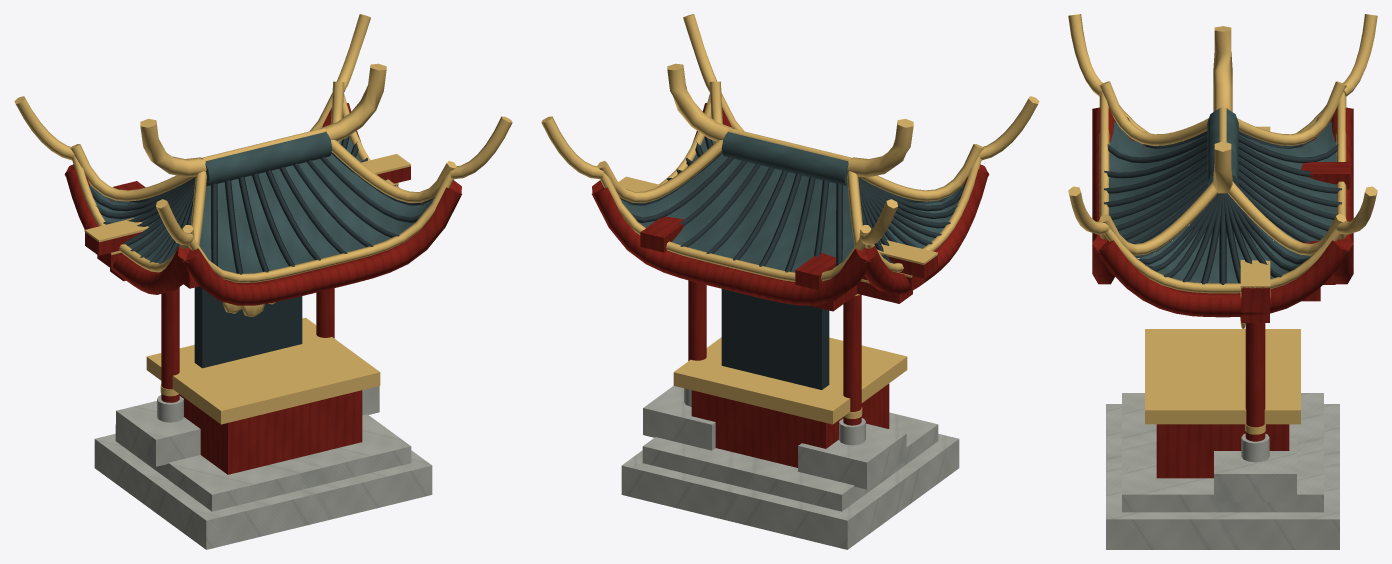
File: shrine.glb
3 renders of one model, left to right at view 1: azimuth 30°, elevation 25°; view 2: azimuth 150°, elevation 25°; view 3: azimuth 270°, elevation 25°, orthographic. The views are drawn at different scales.
Parts seen in each view (by area): view 1: shrine_Temple_Antique_Gold, shrine_Temple_Worn_Pale_Stone, shrine_Temple_Red_Timber, shrine_Temple_Charcoal_Glazed_Tiles, shrine_Temple_Dark_Ridge_and_Iron; view 2: shrine_Temple_Worn_Pale_Stone, shrine_Temple_Antique_Gold, shrine_Temple_Red_Timber, shrine_Temple_Dark_Ridge_and_Iron, shrine_Temple_Charcoal_Glazed_Tiles; view 3: shrine_Temple_Antique_Gold, shrine_Temple_Worn_Pale_Stone, shrine_Temple_Red_Timber, shrine_Temple_Dark_Ridge_and_Iron, shrine_Temple_Charcoal_Glazed_Tiles.
Part boxes in pixels (bbox=[...]): shrine_Temple_Antique_Gold: bbox=[14, 14, 512, 424]; shrine_Temple_Worn_Pale_Stone: bbox=[94, 386, 432, 549]; shrine_Temple_Red_Timber: bbox=[64, 103, 461, 474]; shrine_Temple_Charcoal_Glazed_Tiles: bbox=[89, 132, 433, 273]; shrine_Temple_Dark_Ridge_and_Iron: bbox=[88, 136, 434, 368]; shrine_Temple_Worn_Pale_Stone: bbox=[621, 385, 959, 549]; shrine_Temple_Antique_Gold: bbox=[541, 14, 1039, 424]; shrine_Temple_Red_Timber: bbox=[592, 103, 989, 467]; shrine_Temple_Dark_Ridge_and_Iron: bbox=[619, 136, 965, 389]; shrine_Temple_Charcoal_Glazed_Tiles: bbox=[620, 132, 964, 272]; shrine_Temple_Antique_Gold: bbox=[1068, 14, 1377, 434]; shrine_Temple_Worn_Pale_Stone: bbox=[1106, 393, 1339, 549]; shrine_Temple_Red_Timber: bbox=[1092, 107, 1353, 478]; shrine_Temple_Dark_Ridge_and_Iron: bbox=[1104, 117, 1341, 284]; shrine_Temple_Charcoal_Glazed_Tiles: bbox=[1108, 109, 1337, 283].
Size of the model in its own units: 3.3 by 3.44 by 2.38.
5 materials, 3 textured.
